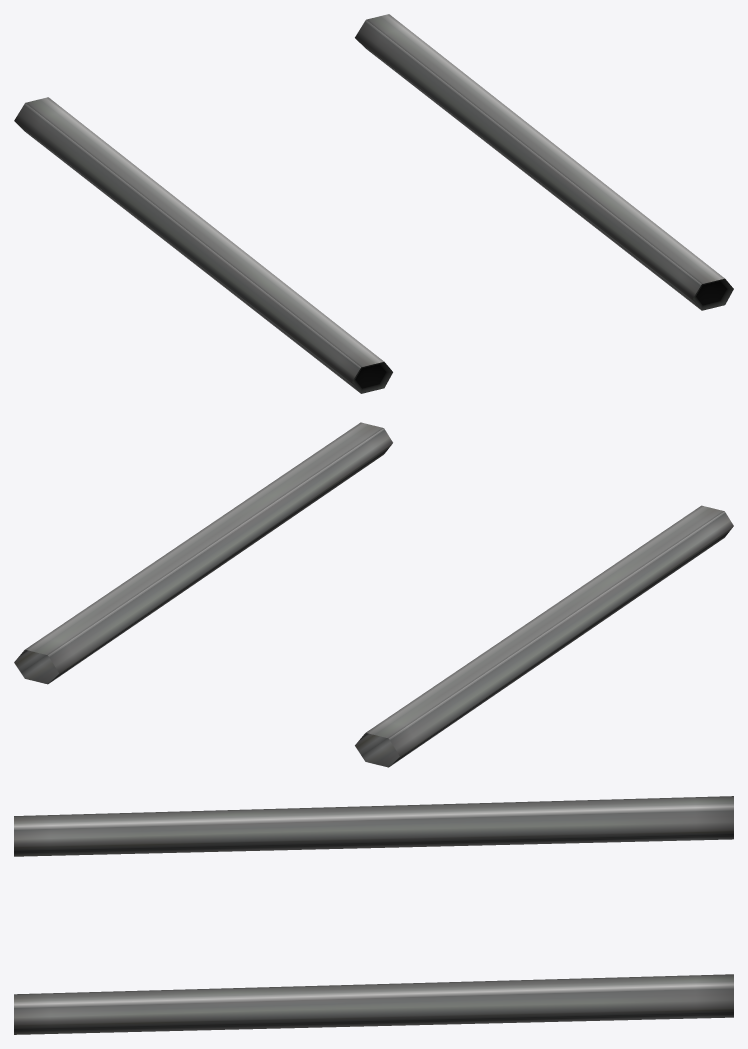
Rendered from exh_lr_br2.glb.
The picture shows the model from 3 angles, top to bottom: view 1: azimuth 30°, elevation 25°; view 2: azimuth 150°, elevation 25°; view 3: azimuth 270°, elevation 25°; orthographic projection. The views are drawn at different scales.
Parts seen in each view (by area): view 1: exh_lr_br2; view 2: exh_lr_br2; view 3: exh_lr_br2.
Boxes of the visible parts, x1=… form: exh_lr_br2: x1=14, y1=14, x2=733, y2=393; exh_lr_br2: x1=14, y1=422, x2=733, y2=767; exh_lr_br2: x1=14, y1=796, x2=733, y2=1034.
Bounding box in the file's own units: 1.01 × 0.1136 × 1.53.
1 material, 1 textured.
